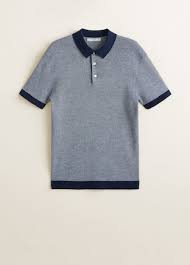C_polo shirt: (21, 26, 179, 207)
